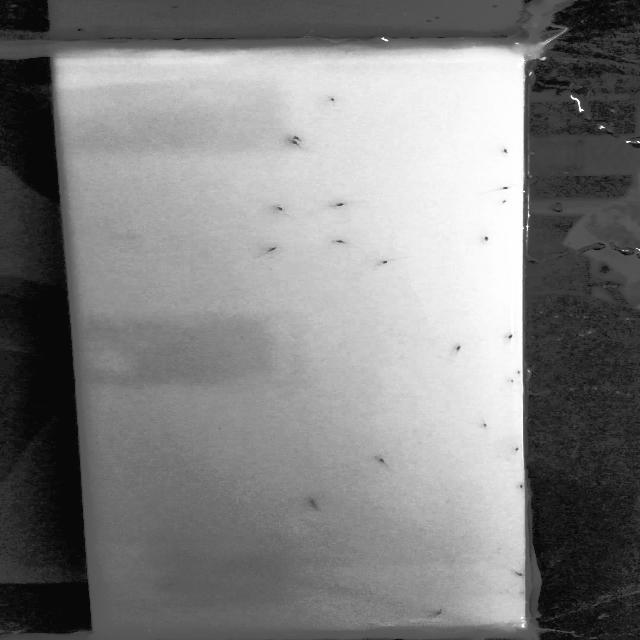shrimp: (474, 184, 516, 193), (380, 456, 400, 473), (304, 497, 333, 507), (325, 198, 351, 209), (507, 567, 532, 577), (292, 132, 322, 140), (489, 198, 511, 208), (450, 342, 468, 354), (433, 608, 457, 616), (325, 94, 341, 106), (510, 441, 527, 452), (495, 148, 510, 159), (287, 140, 307, 148), (334, 237, 352, 245), (266, 245, 286, 252), (510, 481, 527, 489), (504, 333, 518, 341), (165, 580, 178, 588), (484, 233, 492, 245), (505, 377, 518, 384), (275, 205, 286, 213), (480, 422, 488, 432), (516, 368, 524, 377), (376, 260, 393, 264)
